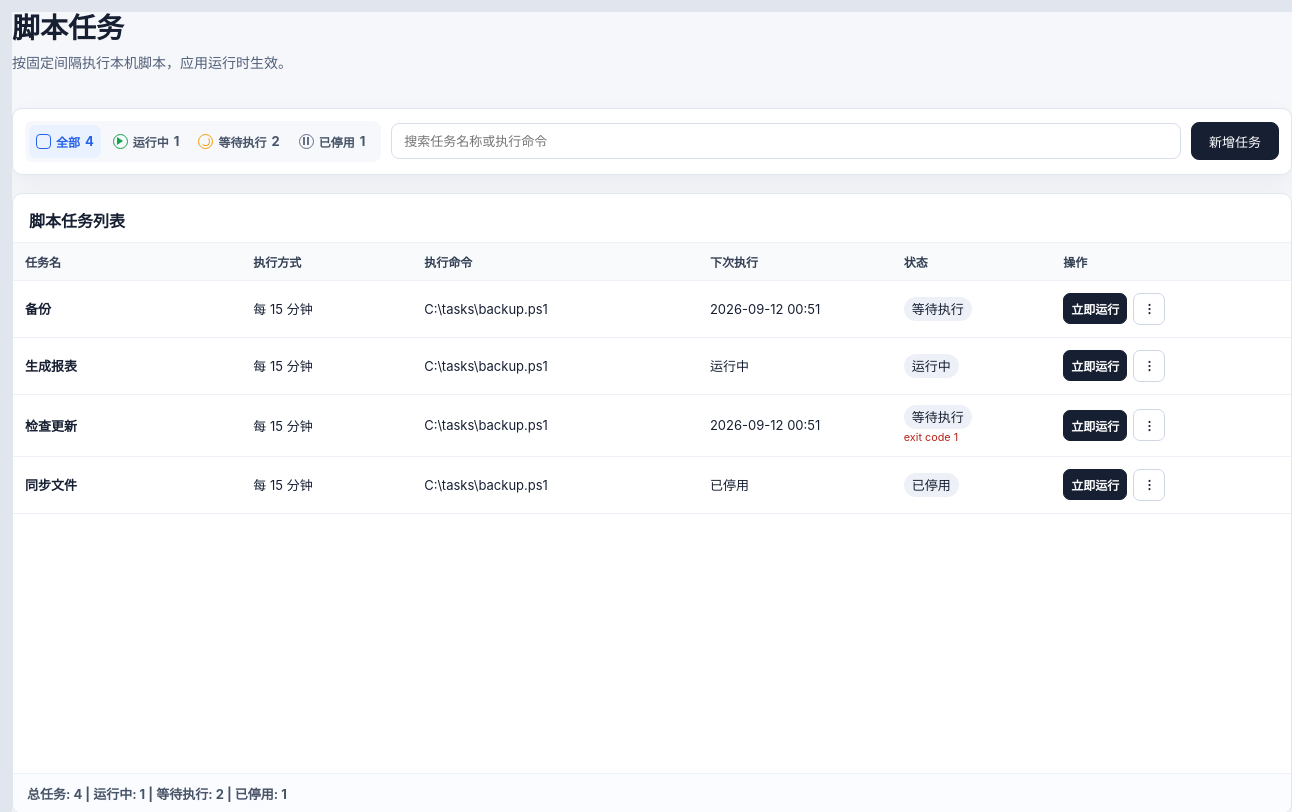
Scenario: filters script tasks by status
This screenshot has width=1292, height=812.
Expected: the button "全部 4" is shown, [29,125,101,158]
Expected: the text "生成报表" is shown, [25,358,77,374]
Click the button "等待执行 2" at (239,141), box [191,125,287,158]
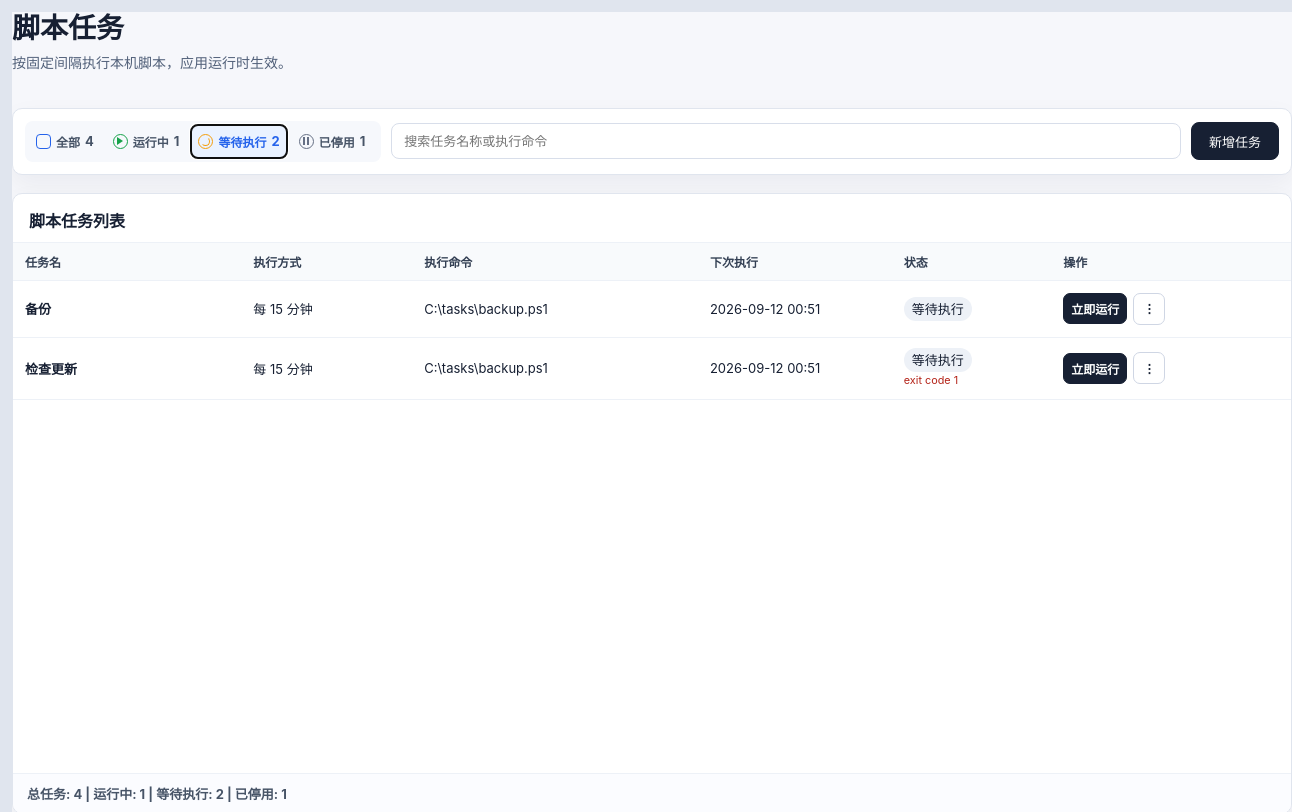
Expected: the text "检查更新" is shown, [25,361,77,377]
Result: the text "生成报表" is gone
